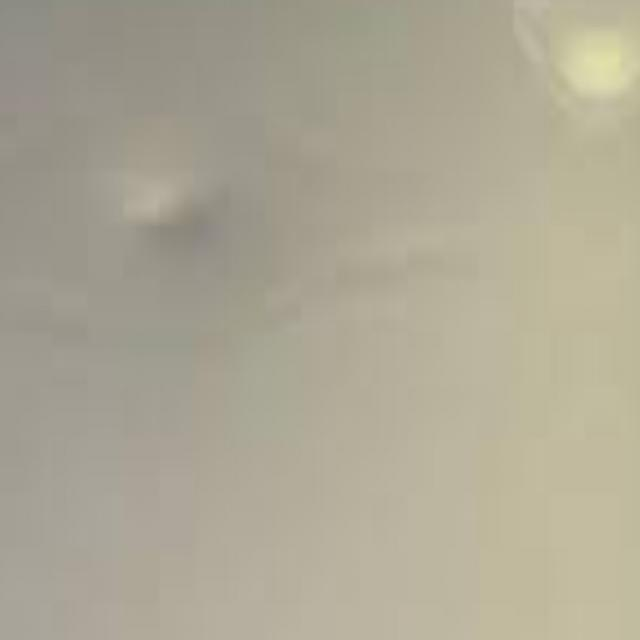dents: (116, 176, 253, 272)
